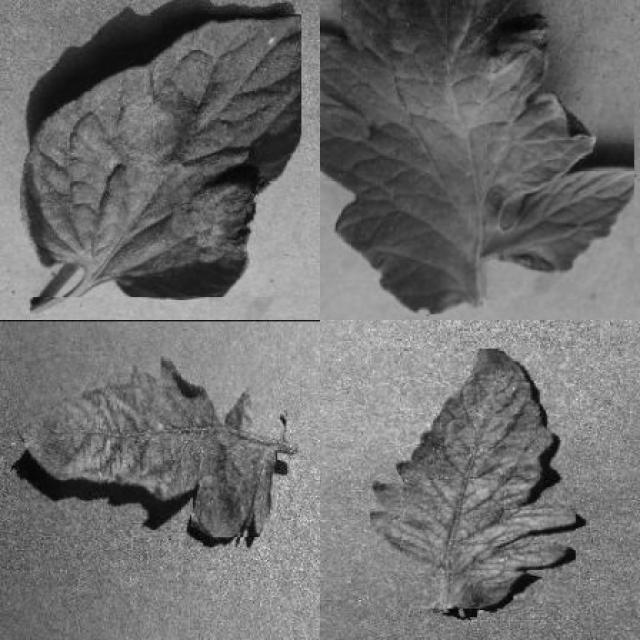Early Blight: (319, 0, 634, 314)
Late Blight: (11, 14, 302, 297)
Mosaic Virus: (367, 348, 576, 609), (17, 355, 277, 538)
